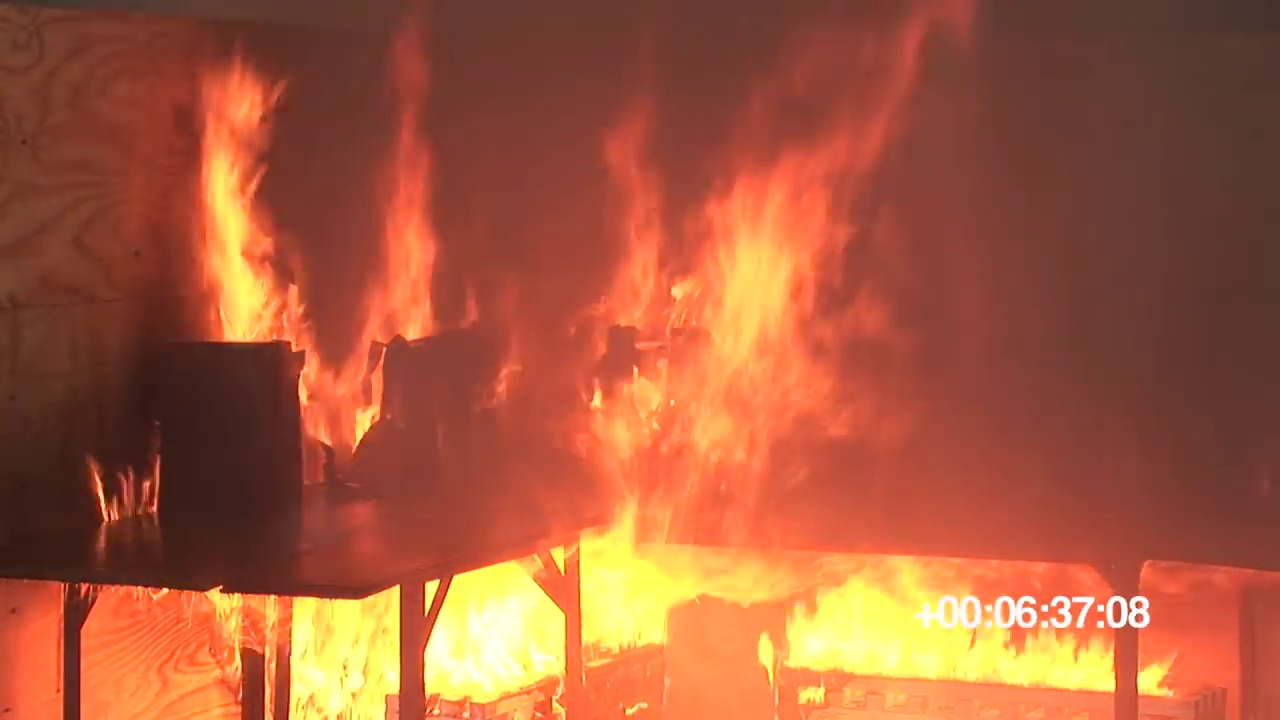fire: (610, 145, 838, 538), (236, 599, 555, 720), (788, 590, 1168, 683), (197, 65, 270, 340), (382, 123, 435, 342), (582, 553, 660, 642), (306, 354, 368, 440)
